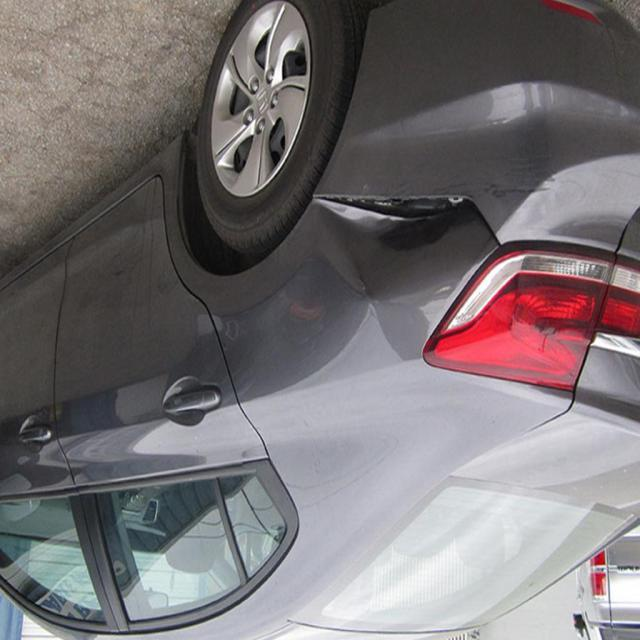dent: (316, 180, 475, 258)
